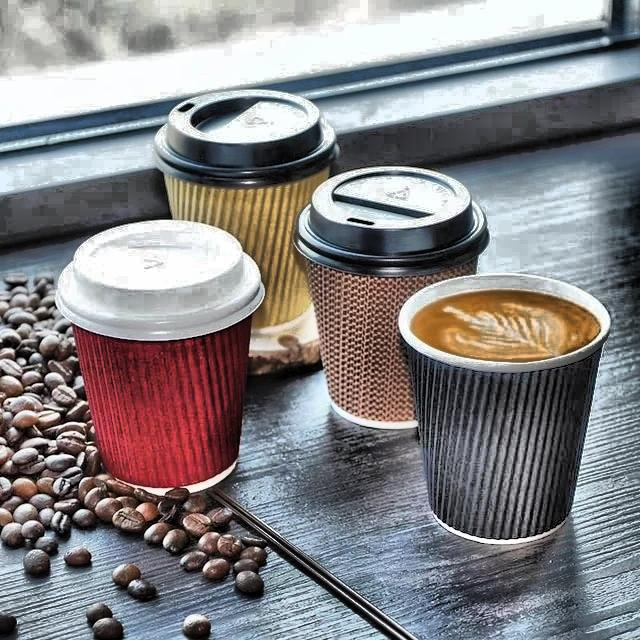Cup: (383, 262, 612, 566), (53, 222, 273, 493), (292, 159, 499, 437), (148, 87, 337, 346)
